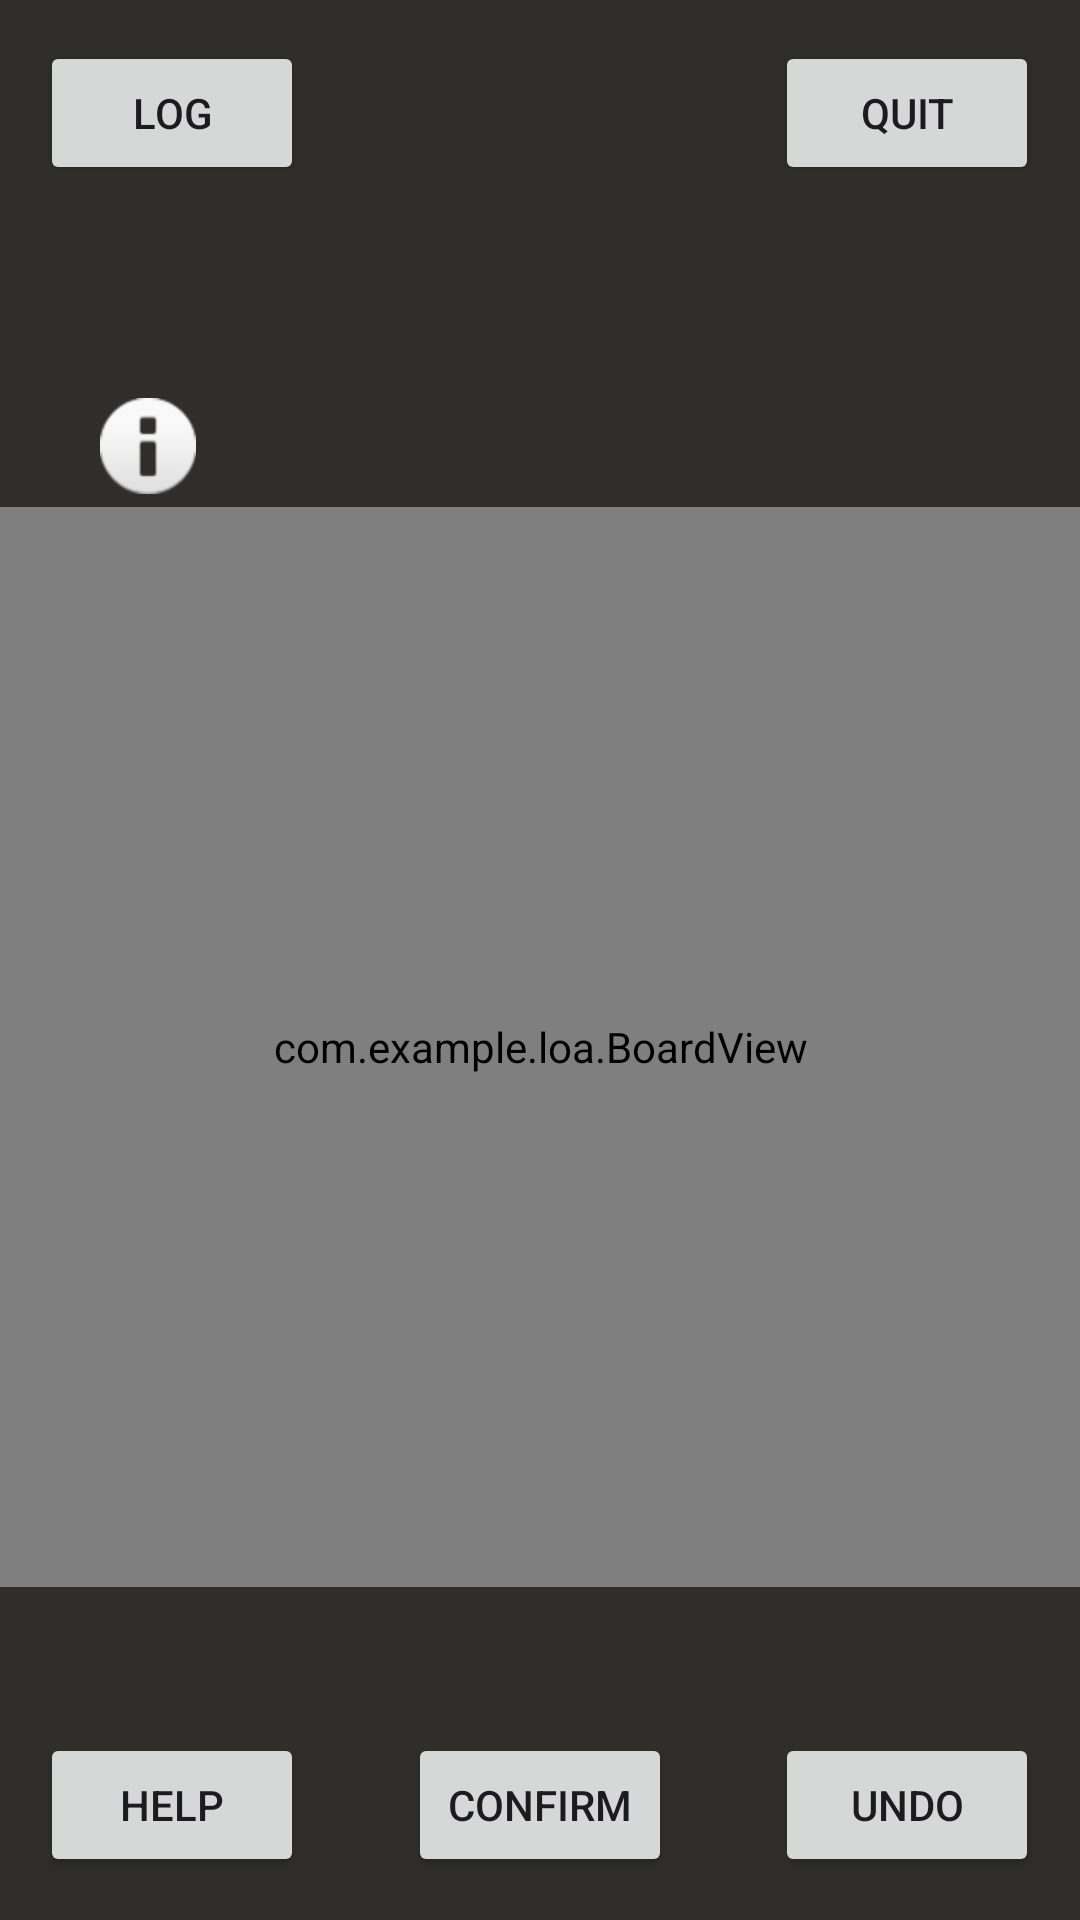

Icon click points for this 1080w x 1920h phone screenshot, format (x,y):
info: (148,446)
